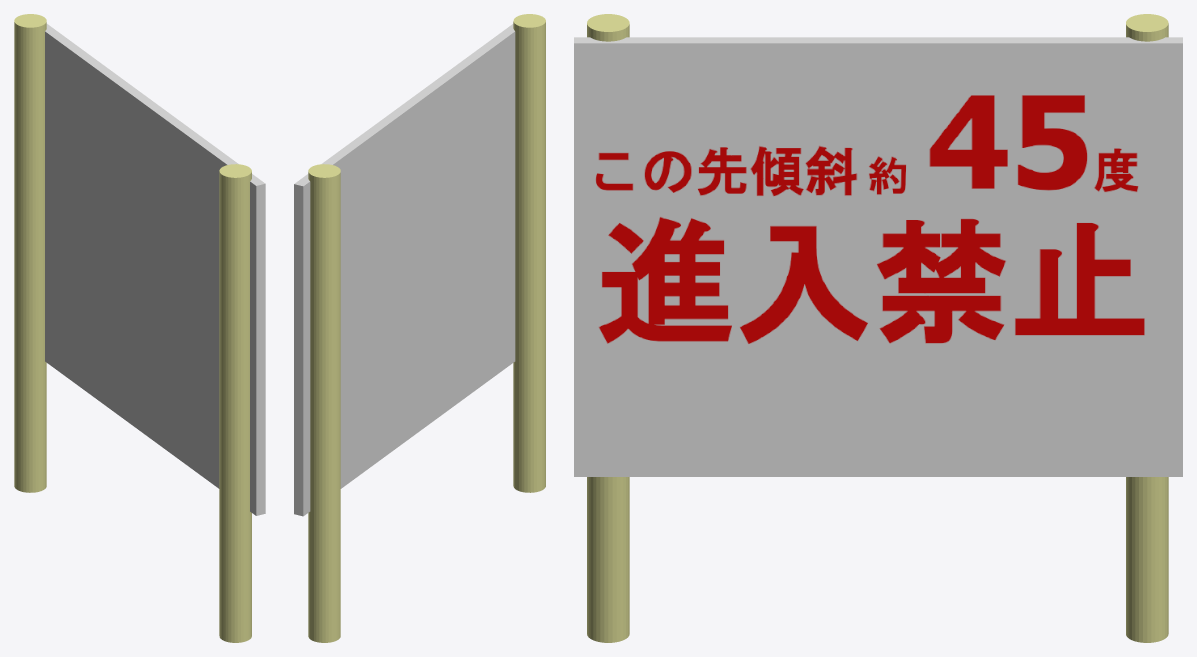
Rendered from Signboard45.fbx.
3 views of the same model, side by side, from view 1: azimuth 30°, elevation 25°; view 2: azimuth 150°, elevation 25°; view 3: azimuth 270°, elevation 25° (orthographic). The views are drawn at different scales.
Parts seen in each view (by area): view 1: 看板45度; view 2: 看板45度; view 3: 看板45度.
Part boxes in pixels (x1=…): 看板45度: x1=14, y1=14, x2=265, y2=642; 看板45度: x1=294, y1=14, x2=545, y2=642; 看板45度: x1=574, y1=14, x2=1182, y2=642.
Bounding box in the file's own units: 9.11 × 131 × 118.
3 materials, 1 textured.
